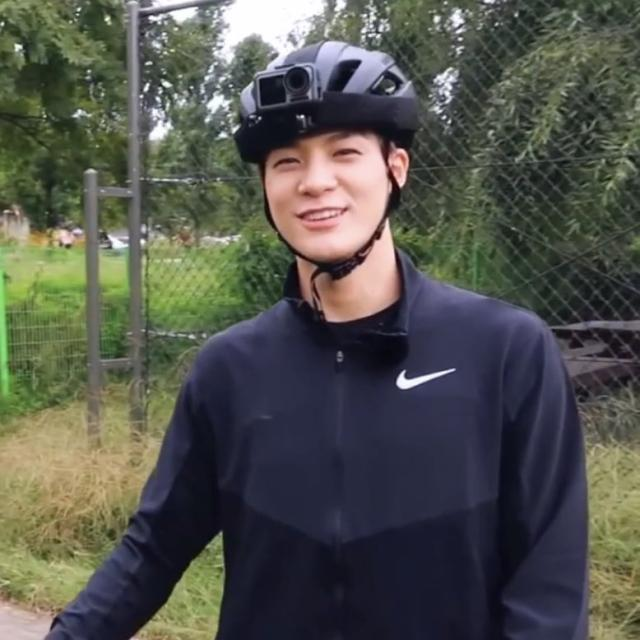Helmet: (232, 40, 423, 267)
